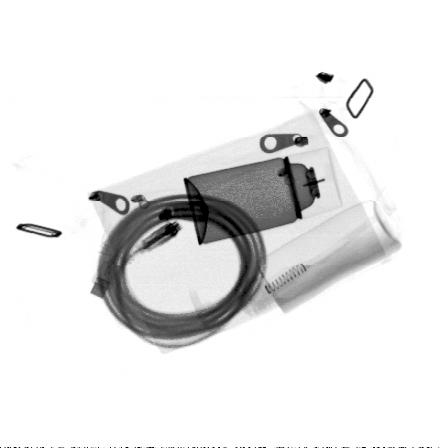Sprayer: (183, 146, 344, 246)
